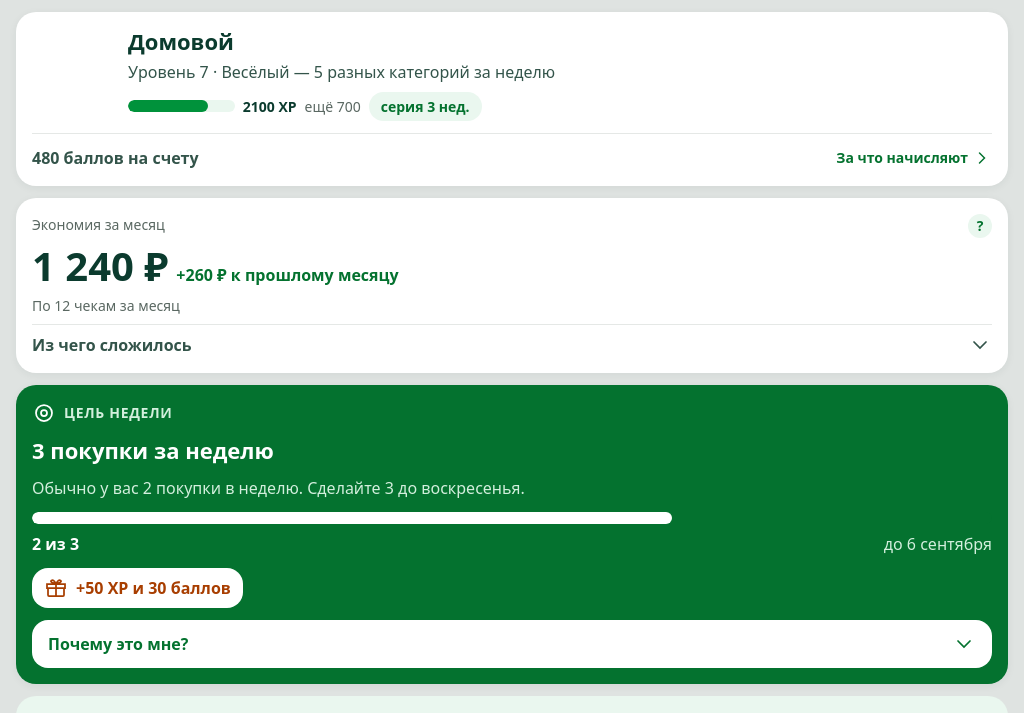
Test: HomeScreen › клик «Из чего сложилось» раскрывает скидки, баллы и топ-категории
This screenshot has width=1024, height=713.
Expected: the text "2 из 3" is shown, x1=32 y1=532 x2=79 y2=556
Expected: the text "Скидки" is not shown
Click the button "Из чего сложилось".
click(112, 344)  # box x1=32 y1=324 x2=992 y2=356
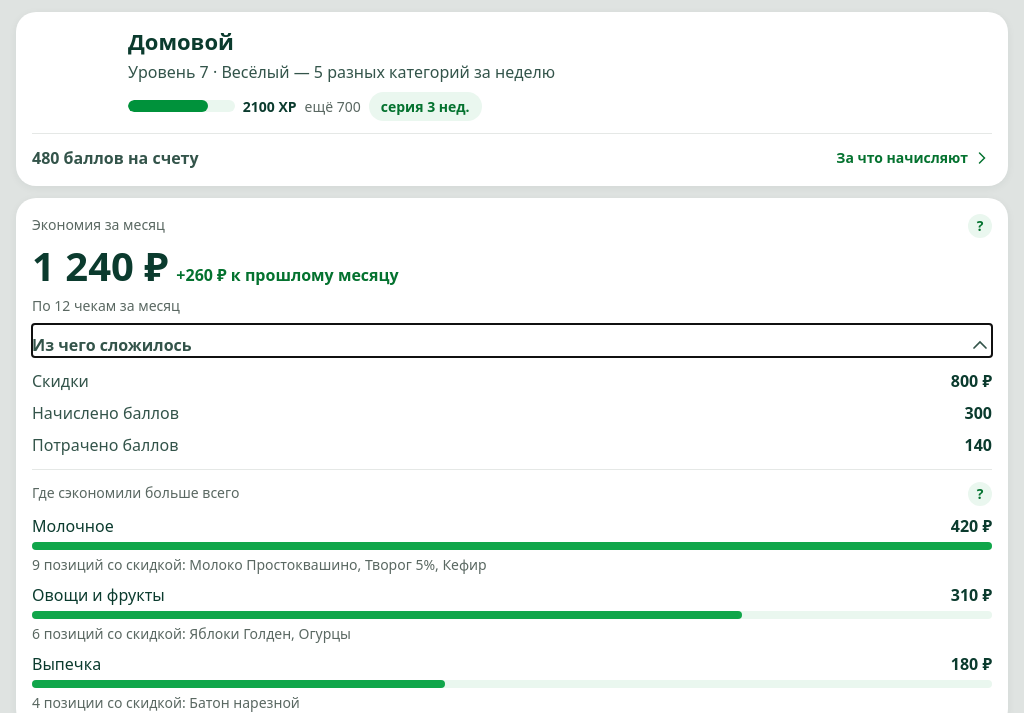
Expected: the button "Из чего сложилось" is expanded
Expected: the text "Скидки" is shown, x1=32 y1=368 x2=89 y2=392
Expected: the text "800 ₽" is shown, x1=951 y1=368 x2=992 y2=392
Click the button "Из чего сложилось".
click(112, 344)  # box x1=32 y1=324 x2=992 y2=356
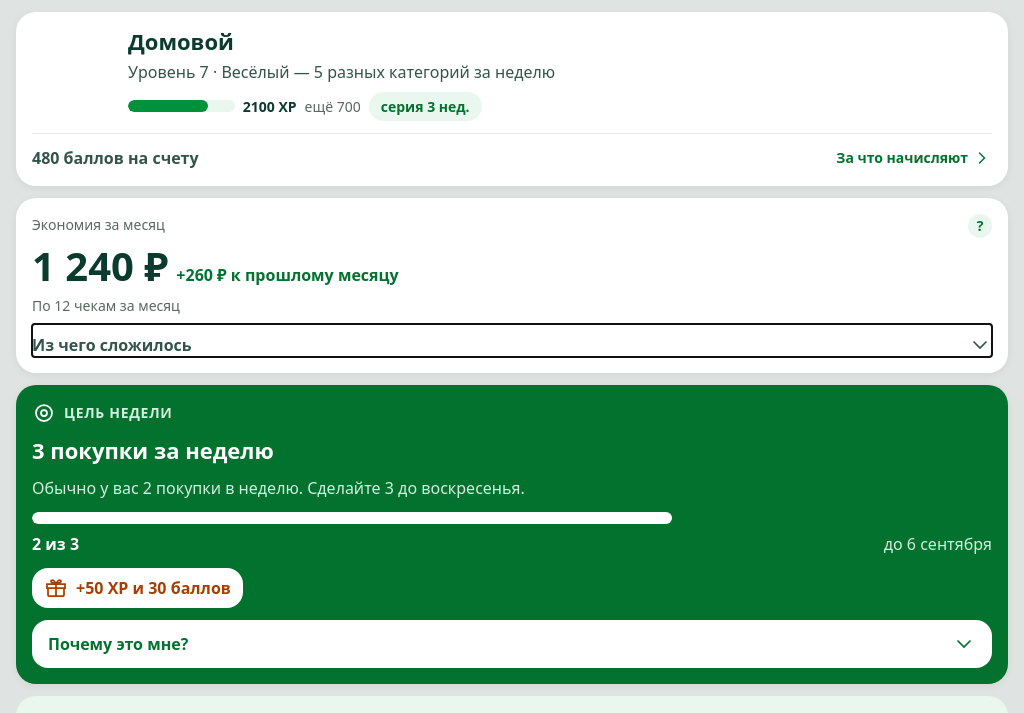
Expected: the button "Из чего сложилось" is collapsed, x1=32 y1=324 x2=992 y2=356
Expected: the text "Скидки" is gone
